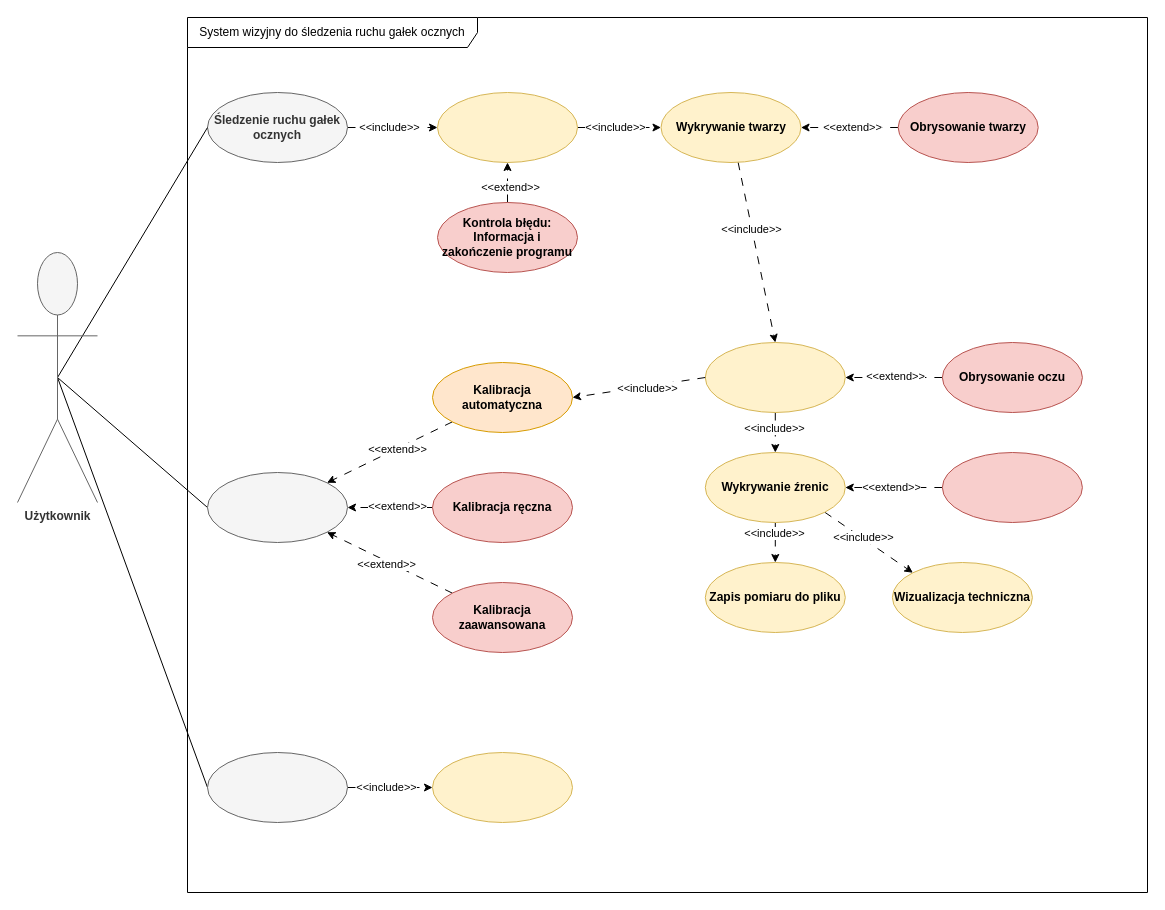
Some shapes in this 1165 by 910 pixel diagram are drawn without their labels. The centre of each missing label's shape, as x and y in pixels:
Generowanie wykresów czasowych: pixel 502 787
Inicjalizacja systemu: pixel 507 127
Kalibracja punktu odniesienia: pixel 277 507
Obrysowanie źrenic: pixel 1011 487
Wizualizacja zebranych pomiarów: pixel 277 787
Wykrywanie obu oczu: pixel 774 377
